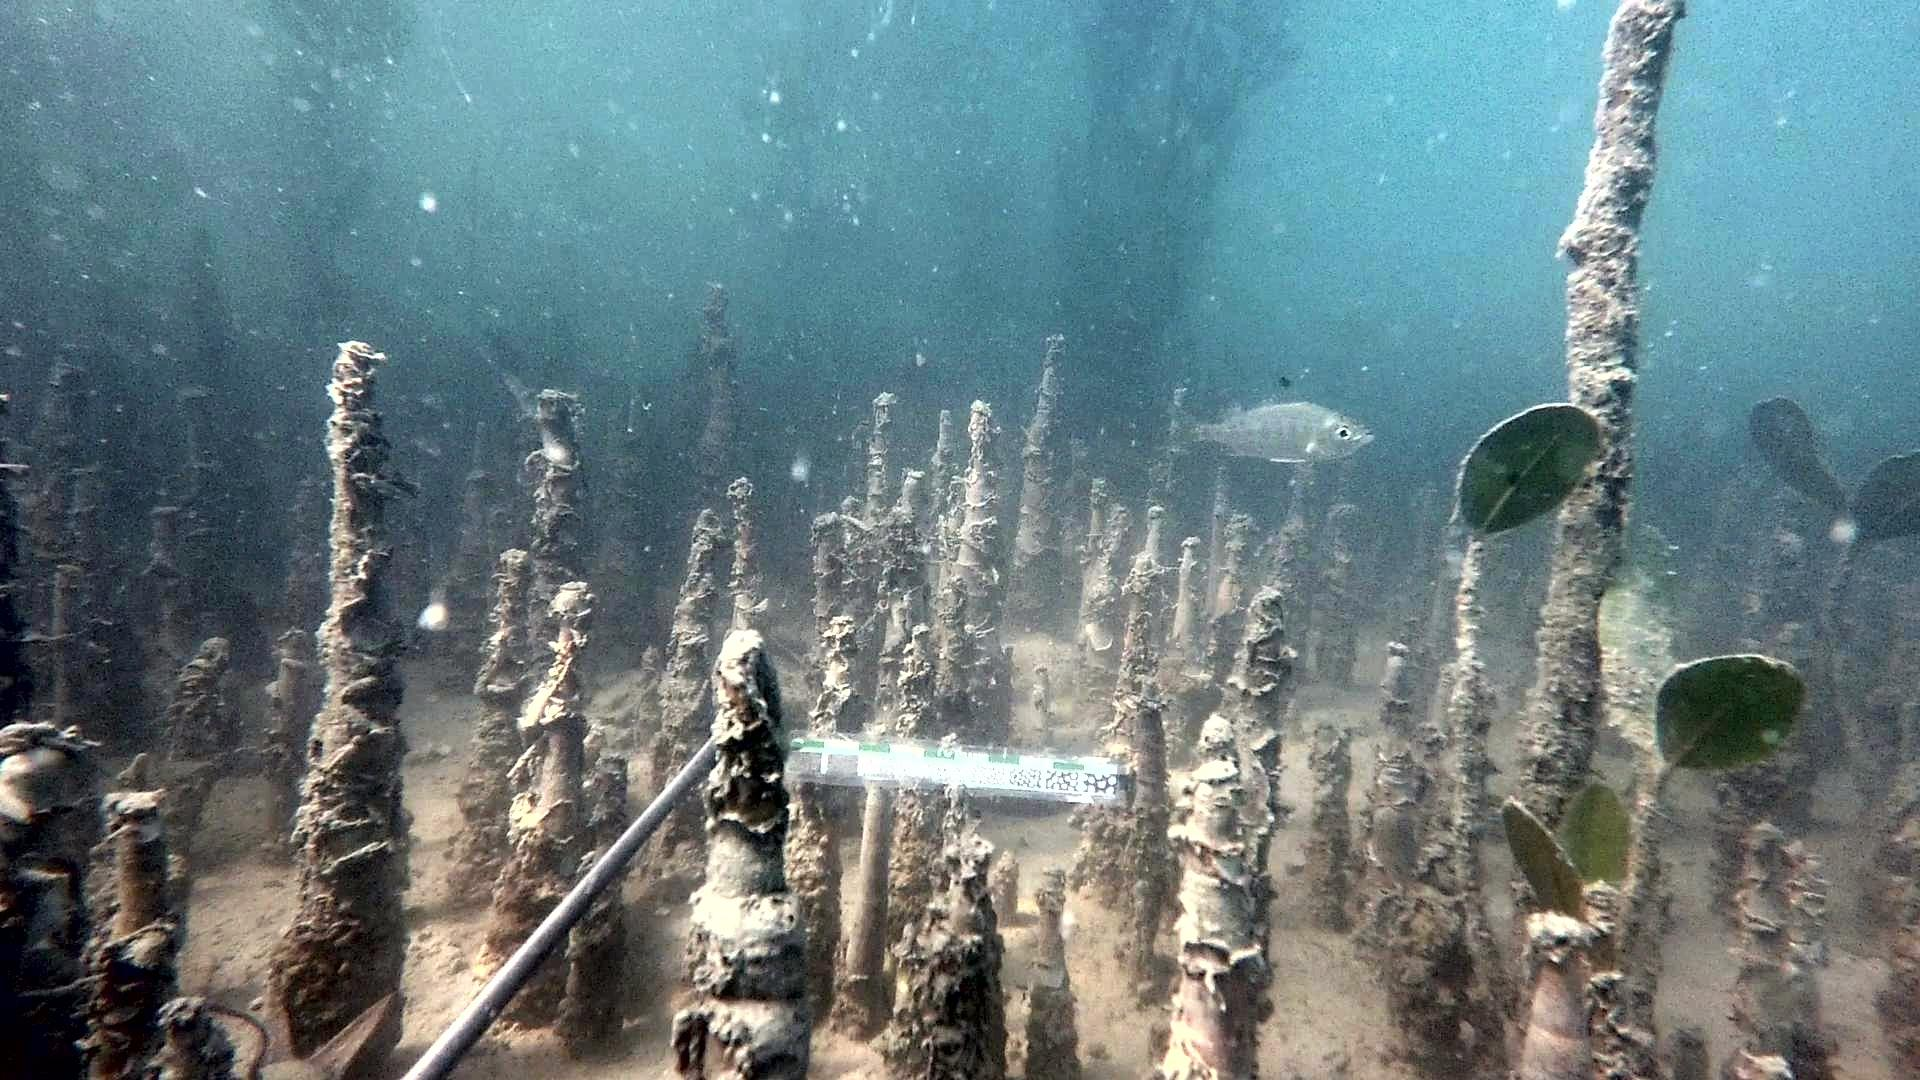gerres: (1171, 375, 1378, 468)
